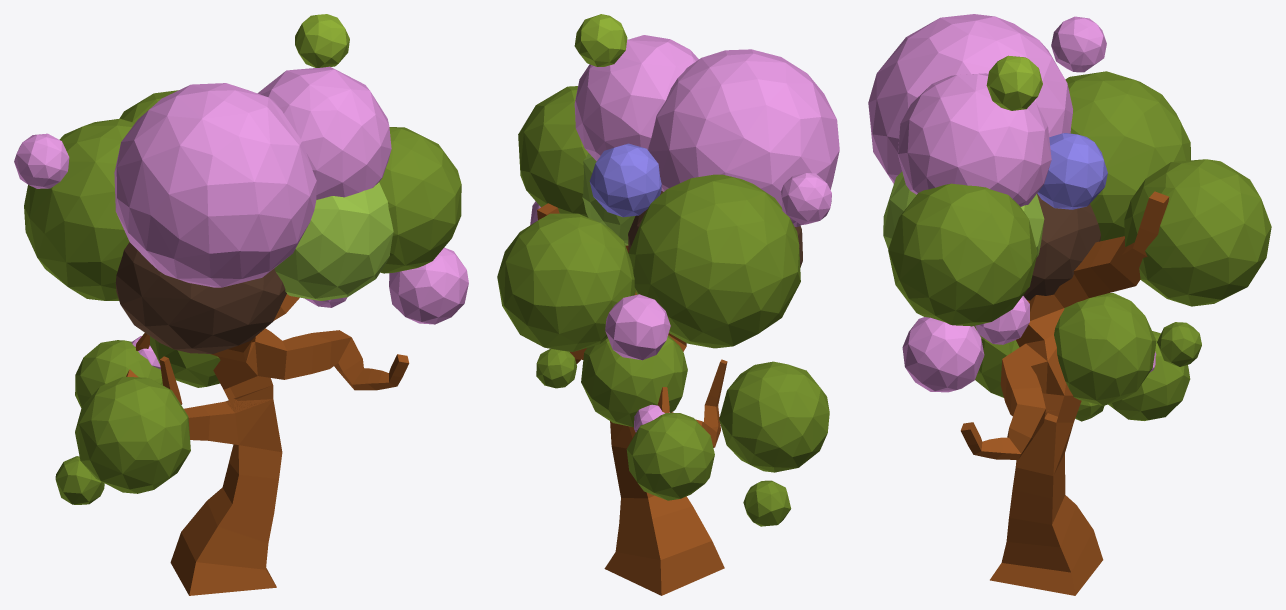
The model's file is tree no 2.fbx.
3 views of the same model, side by side, from view 1: azimuth 30°, elevation 25°; view 2: azimuth 150°, elevation 25°; view 3: azimuth 270°, elevation 25° (orthographic). The views are drawn at different scales.
Parts seen in each view (by area): view 1: Sphere.202, Cube.006; view 2: Sphere.202, Cube.006; view 3: Sphere.202, Cube.006.
Boxes of the visible parts, <box> form: Sphere.202: <box>14,14,468,504</box>; Cube.006: <box>126,294,409,595</box>; Sphere.202: <box>497,14,839,526</box>; Cube.006: <box>537,203,727,595</box>; Sphere.202: <box>868,14,1271,421</box>; Cube.006: <box>960,191,1169,595</box>.
Bounding box in the file's own units: 248 × 346 × 228.
